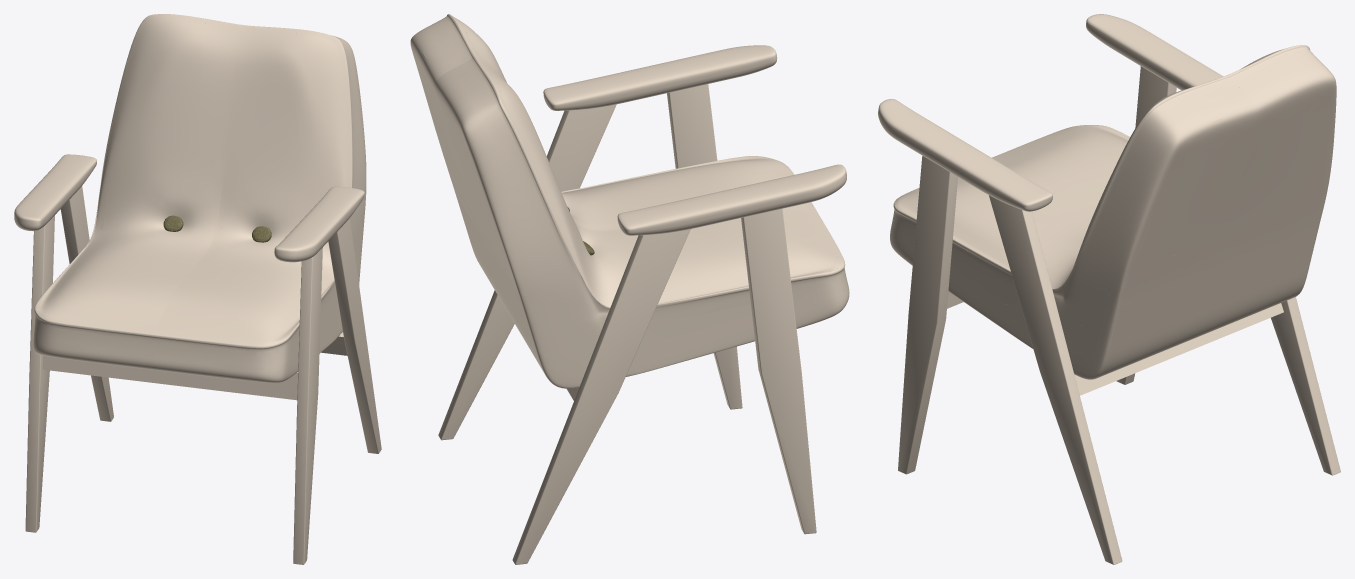
The picture shows the model from 3 angles, left to right: view 1: azimuth 30°, elevation 25°; view 2: azimuth 150°, elevation 25°; view 3: azimuth 270°, elevation 25°; orthographic projection. The views are drawn at different scales.
Visible parts, largest first — view 1: Cube.005_3, Cube_0, Cube.002_2, Cube.001_1; view 2: Cube.005_3, Cube_0; view 3: Cube.005_3, Cube_0, Cube.002_2.
Boxes of the visible parts, x1,y1,x2,y2 form: Cube.005_3: (33, 14, 366, 382); Cube_0: (14, 154, 381, 564); Cube.002_2: (42, 332, 347, 400); Cube.001_1: (163, 215, 271, 242); Cube.005_3: (410, 14, 849, 388); Cube_0: (438, 45, 846, 564); Cube.005_3: (890, 45, 1336, 379); Cube_0: (878, 14, 1340, 564); Cube.002_2: (947, 291, 1283, 395).
Size of the model in its own units: 0.7178 by 0.7651 by 0.717.
3 materials, 1 textured.
